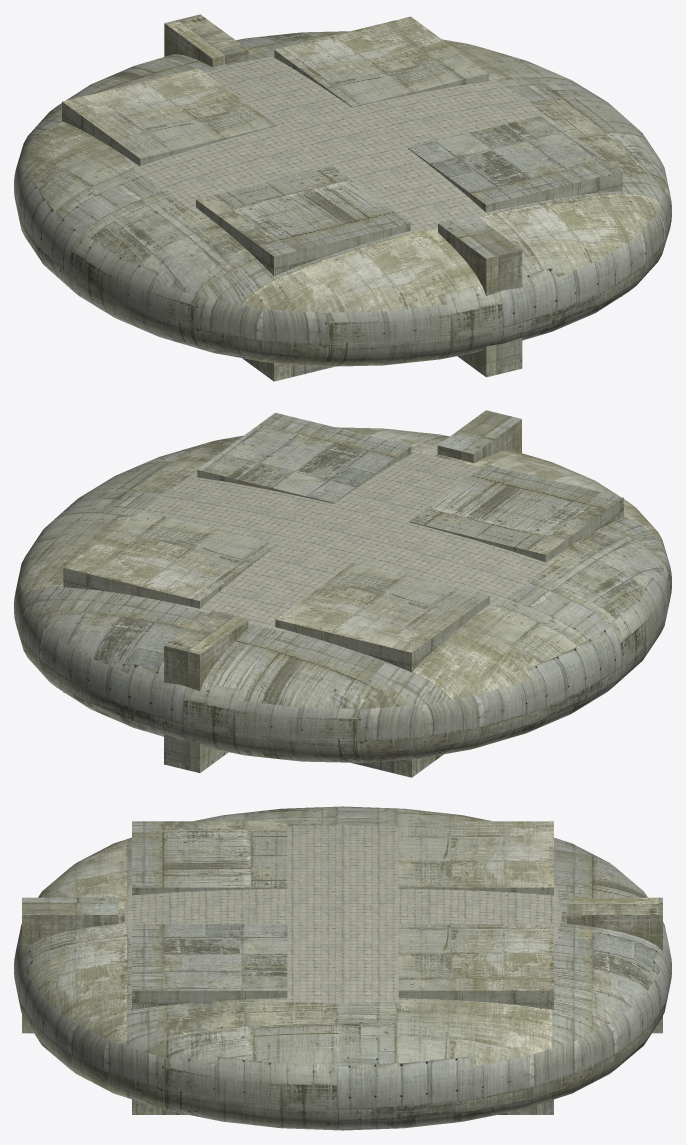
The model's file is SM_LDFest_01_SHADOW.fbx.
3 renders of one model, top to bottom at view 1: azimuth 30°, elevation 25°; view 2: azimuth 150°, elevation 25°; view 3: azimuth 270°, elevation 25°, orthographic.
Parts seen in each view (by area): view 1: SM_LDFest_01_SHADOW; view 2: SM_LDFest_01_SHADOW; view 3: SM_LDFest_01_SHADOW.
Part boxes in pixels (left/top/right/bottom): SM_LDFest_01_SHADOW: left=14, top=14, right=671, bottom=381; SM_LDFest_01_SHADOW: left=14, top=410, right=671, bottom=777; SM_LDFest_01_SHADOW: left=14, top=806, right=671, bottom=1130.
Size of the model in its own units: 3994 by 863 by 4136.
